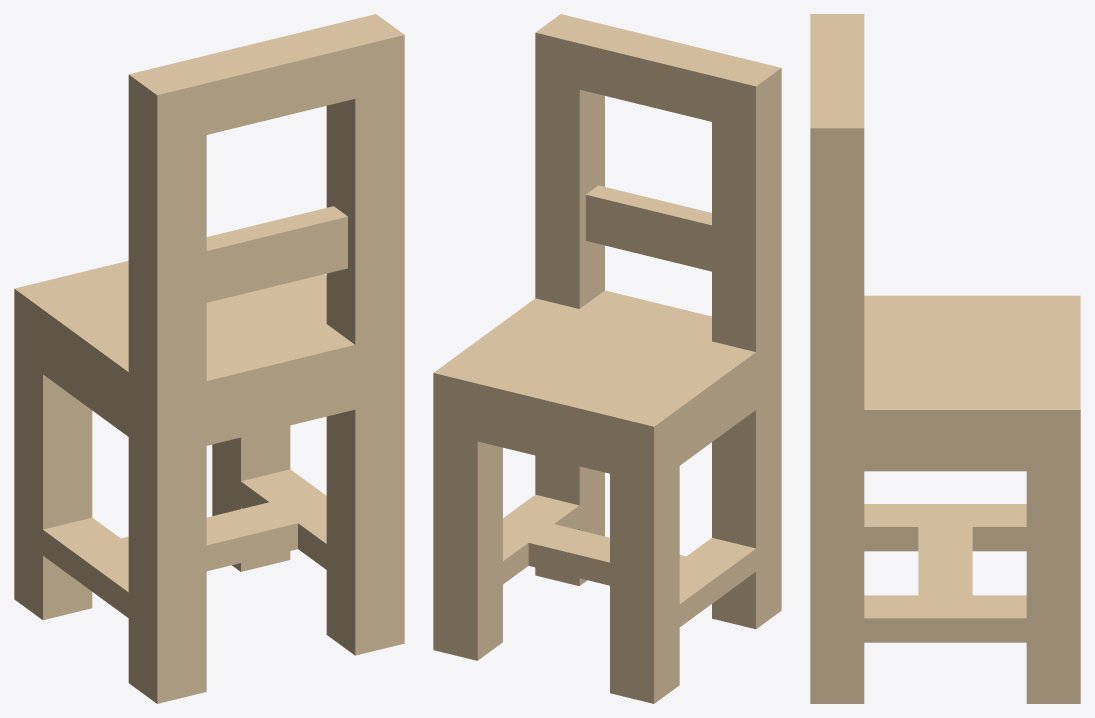
Rendered from chair.glb.
3 renders of one model, left to right at view 1: azimuth 30°, elevation 25°; view 2: azimuth 150°, elevation 25°; view 3: azimuth 270°, elevation 25°, orthographic. The views are drawn at different scales.
Parts seen in each view (by area): view 1: chair; view 2: chair; view 3: chair.
Part boxes in pixels (x1=…): chair: x1=14, y1=14, x2=404, y2=703; chair: x1=433, y1=14, x2=781, y2=703; chair: x1=810, y1=14, x2=1080, y2=703.
Size of the model in its own units: 2 by 4.7 by 2.
